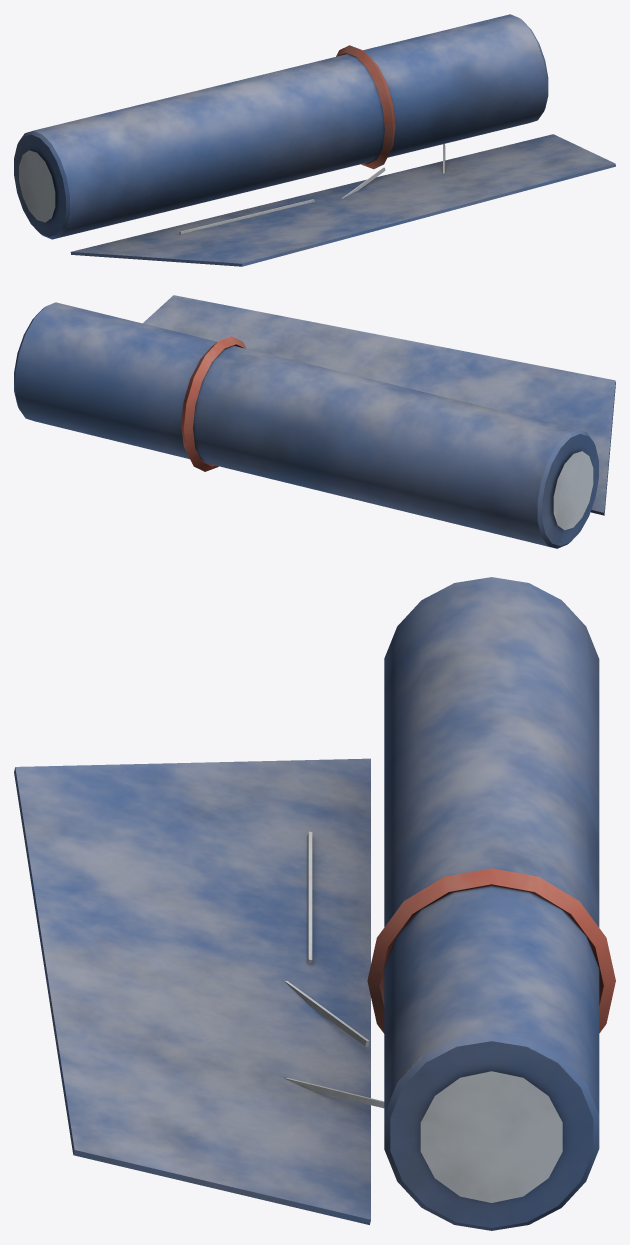
The model's file is blueprint.fbx.
The picture shows the model from 3 angles, top to bottom: view 1: azimuth 30°, elevation 25°; view 2: azimuth 150°, elevation 25°; view 3: azimuth 270°, elevation 25°; orthographic projection. The views are drawn at different scales.
Visible parts, largest first — view 1: Body; view 2: Body; view 3: Body.
Part boxes in pixels (x1=…): Body: x1=14, y1=14, x2=615, y2=266; Body: x1=14, y1=295, x2=615, y2=548; Body: x1=14, y1=577, x2=615, y2=1230.
Bounding box in the file's own units: 1.82 × 0.41 × 0.9929.
1 material, 1 textured.
